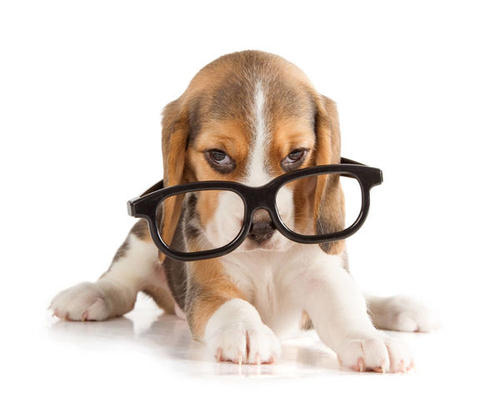dog: (122, 46, 399, 274)
